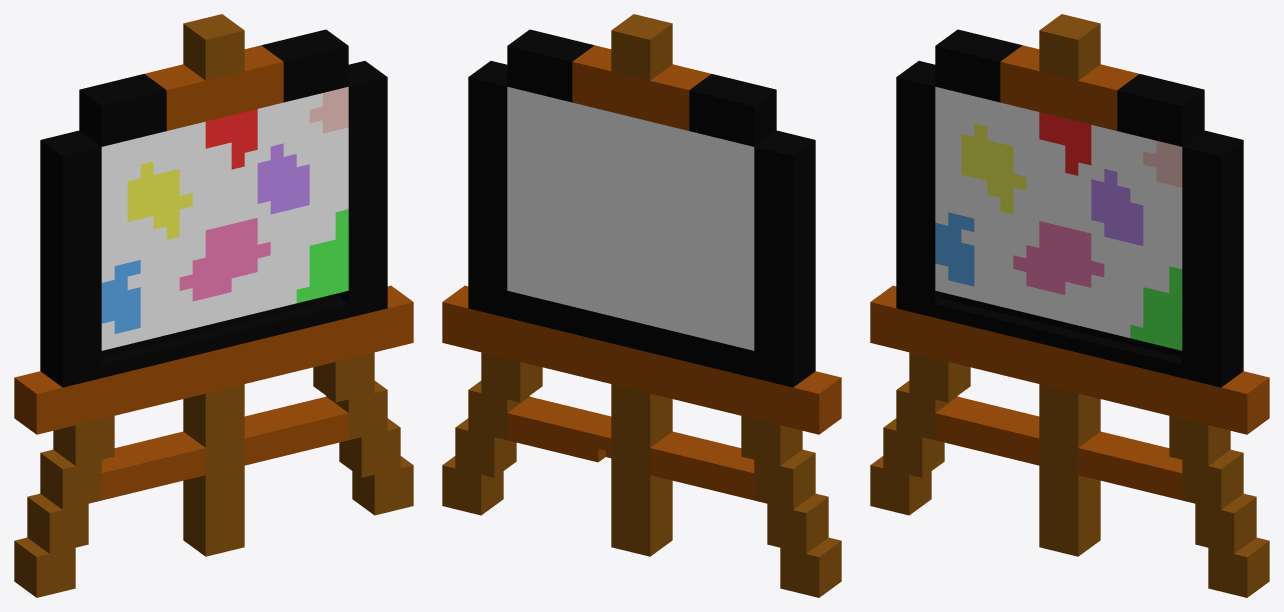
Rendered from lienzo.glb.
3 renders of one model, left to right at view 1: azimuth 30°, elevation 25°; view 2: azimuth 150°, elevation 25°; view 3: azimuth 330°, elevation 25°, orthographic.
Parts seen in each view (by area): view 1: Node1; view 2: Node1; view 3: Node1.
Part boxes in pixels (x1=…): Node1: x1=14, y1=14, x2=413, y2=597; Node1: x1=442, y1=14, x2=841, y2=597; Node1: x1=870, y1=14, x2=1269, y2=597.
Size of the model in its own units: 2.9 by 3.8 by 0.3.
1 material, 1 textured.
